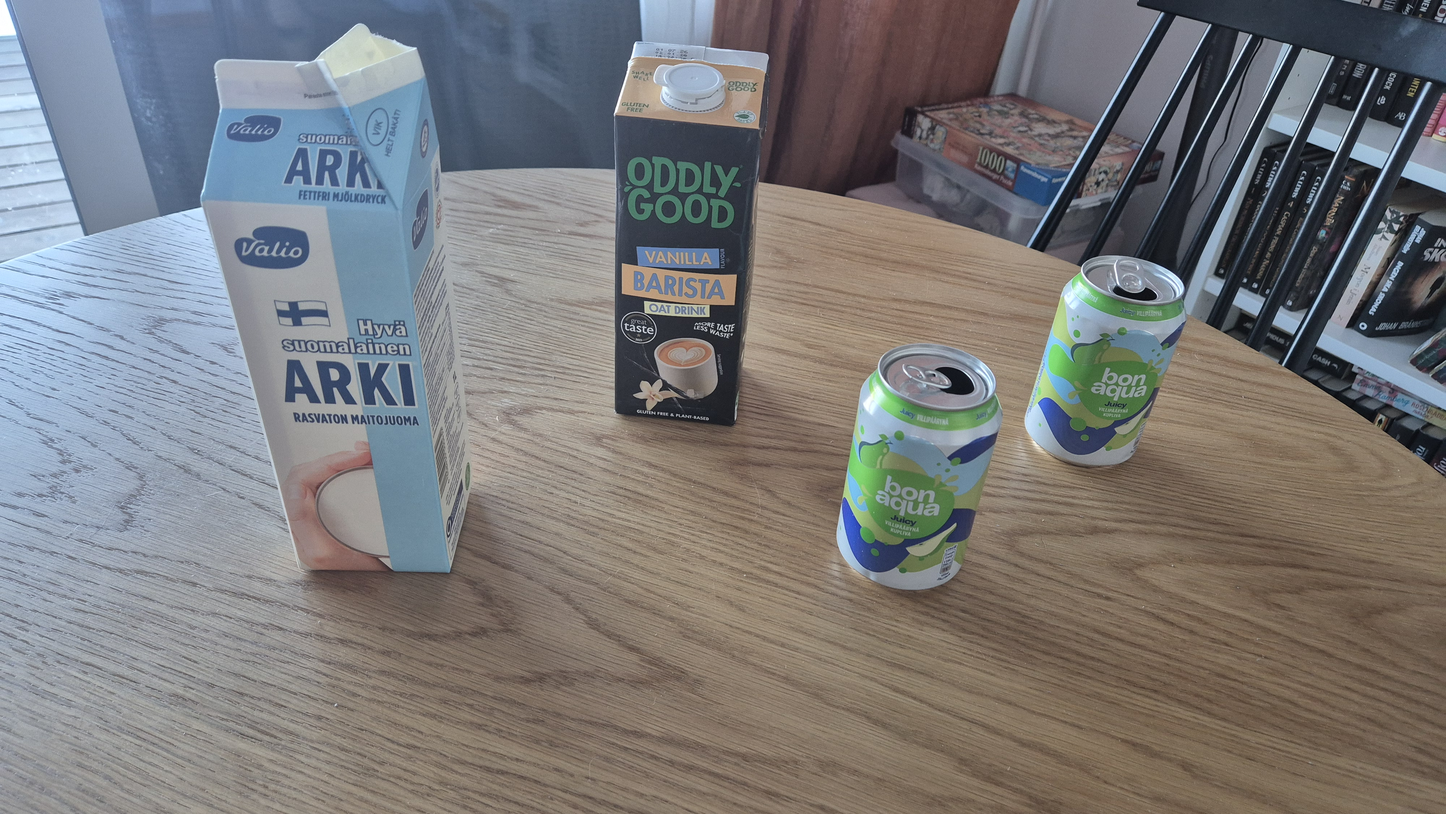Dryckeskartong: (201, 24, 472, 572), (615, 42, 770, 426)
Pantburk: (837, 343, 1002, 590), (1025, 256, 1187, 468)
